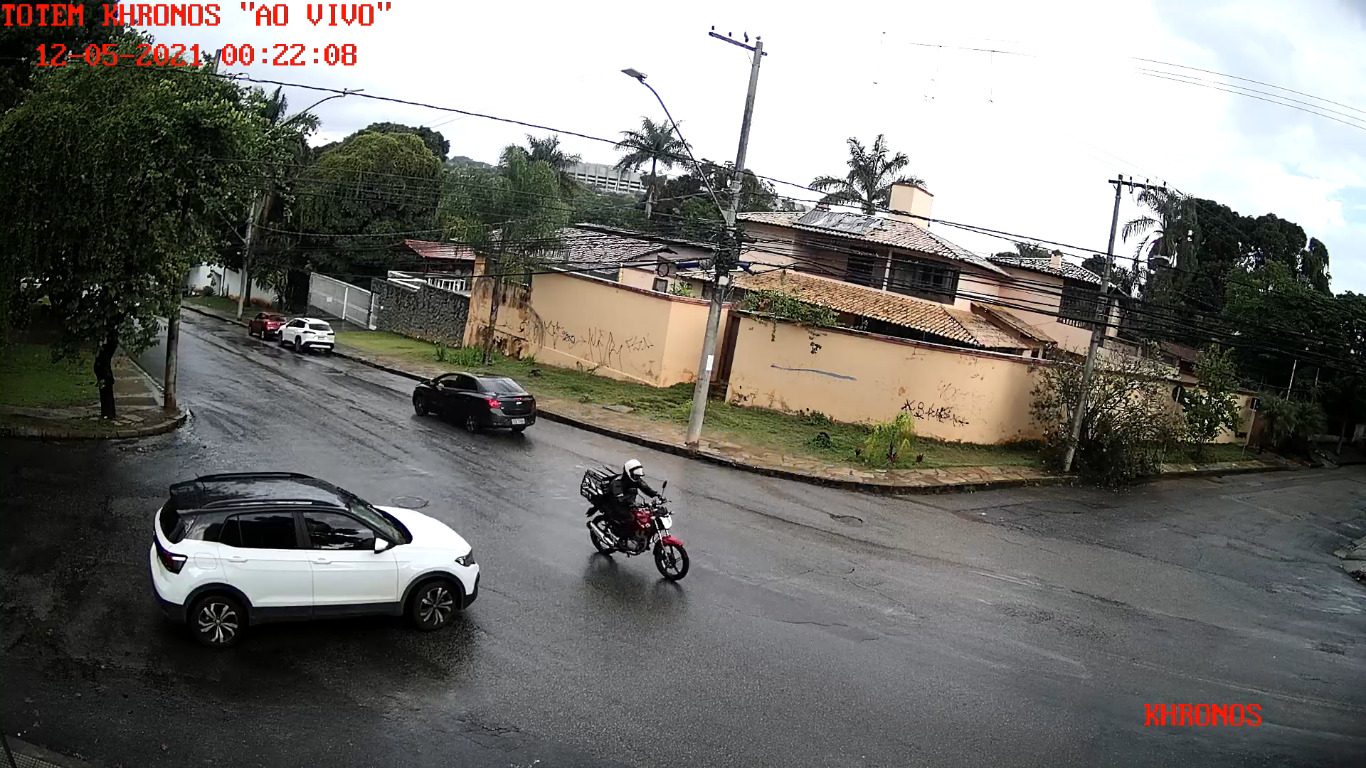car: (151, 471, 480, 645), (414, 369, 538, 434)
